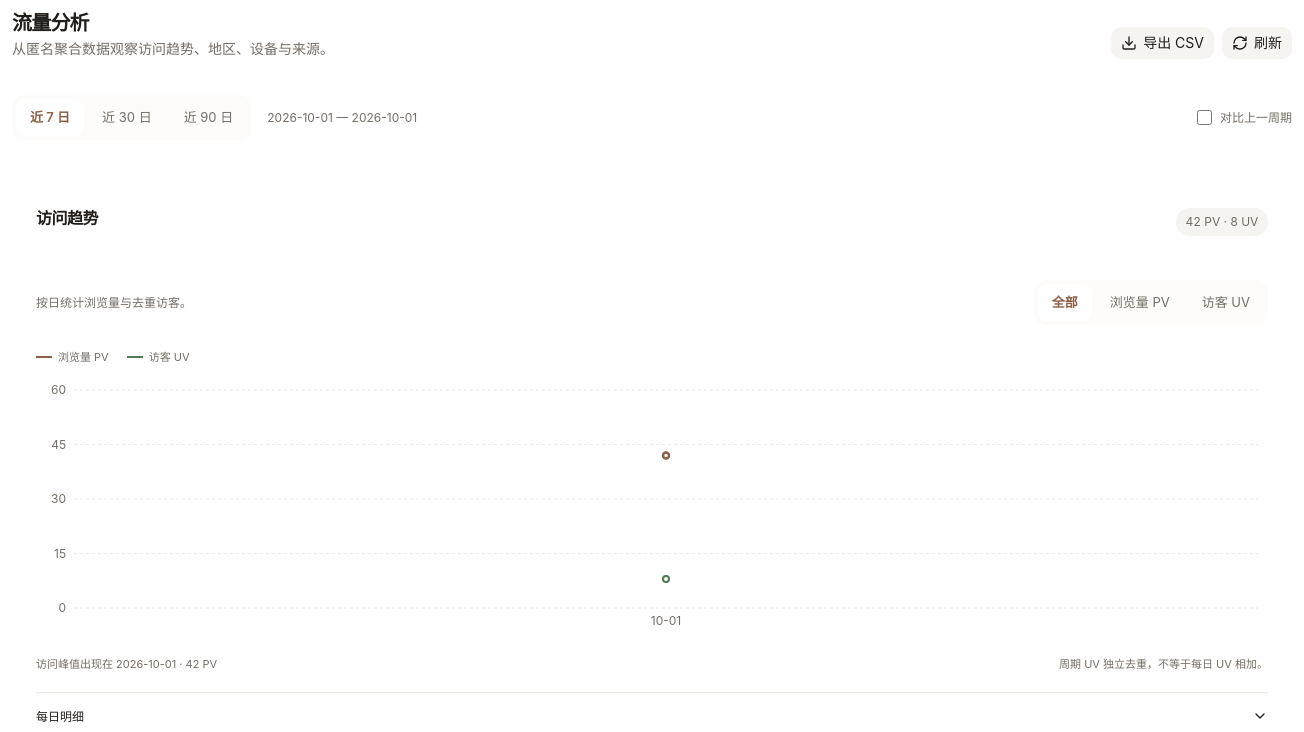
Test: 站点运营保留流量分析 › 刷新失败保留本期数据并提供重试
The width and height of the screenshot is (1304, 732).
expect the text "42 PV · 8 UV" is shown: met, box [1176,208,1268,236]
Click the button "刷新": (1257, 43) [1222,27,1292,59]
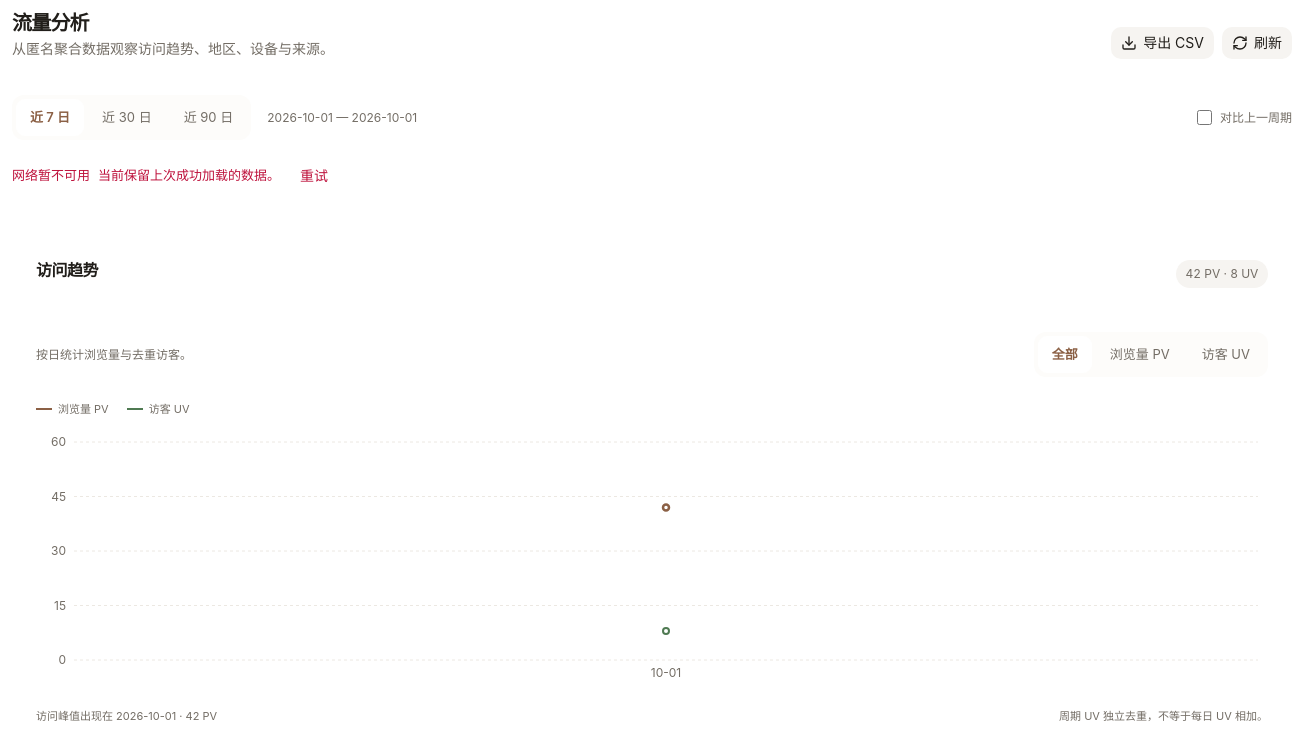
expect the text "42 PV · 8 UV" is shown: met, box [1176,260,1268,288]
expect the message shows "当前保留上次成功加载的数据": met, box [98,167,280,183]
Click the button "重试": (314, 176) [288,160,340,192]
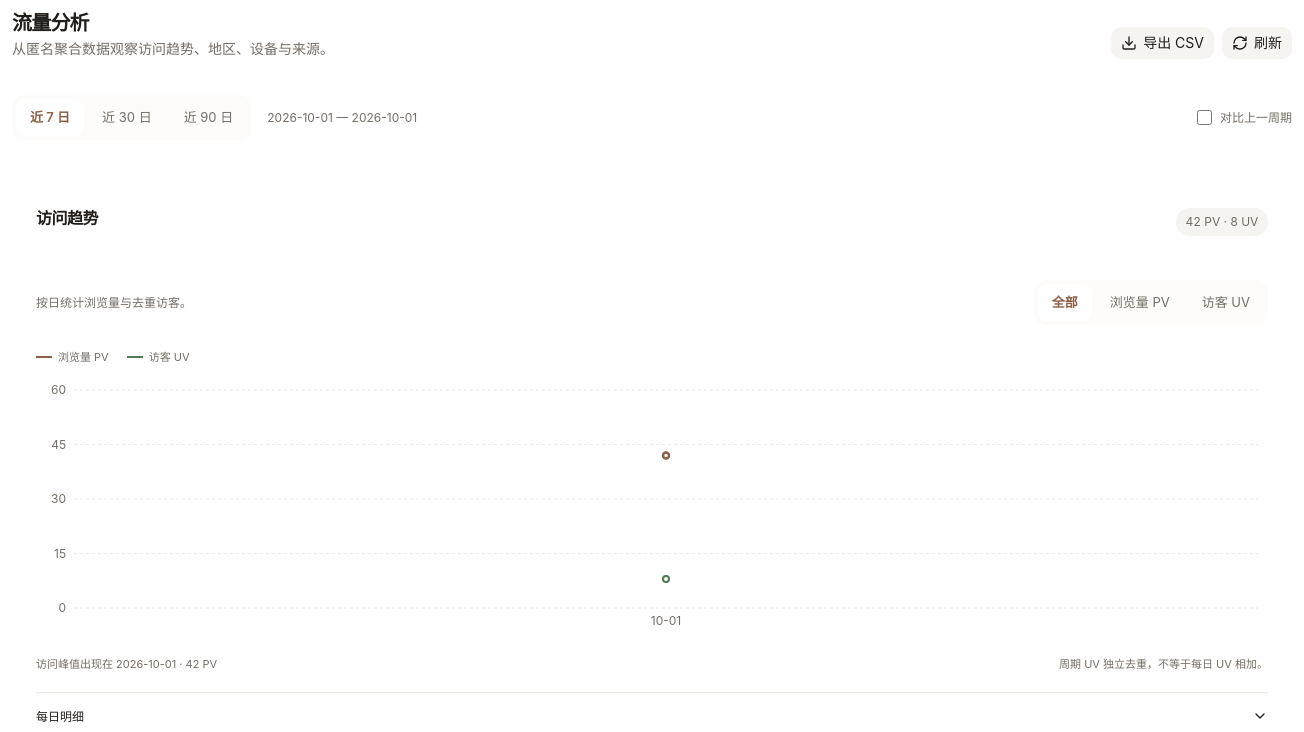
expect the message "网络暂不可用 当前保留上次成功加载的数据。 重试" is gone: met
